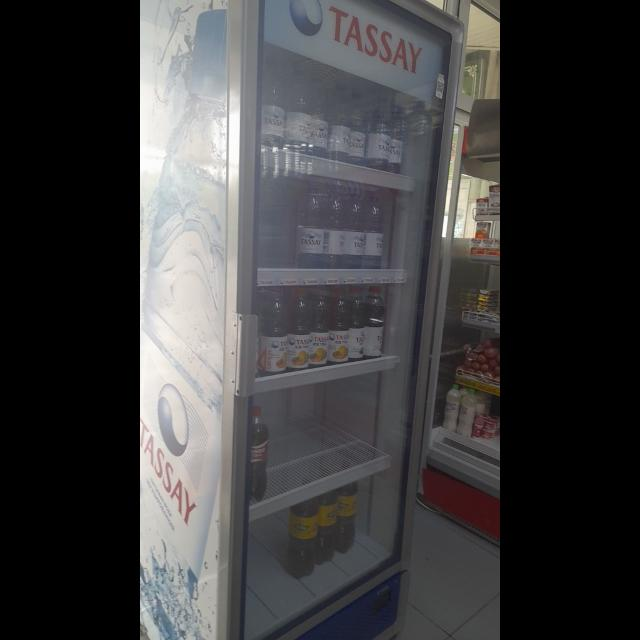Cooling-Display: (217, 1, 465, 640)
